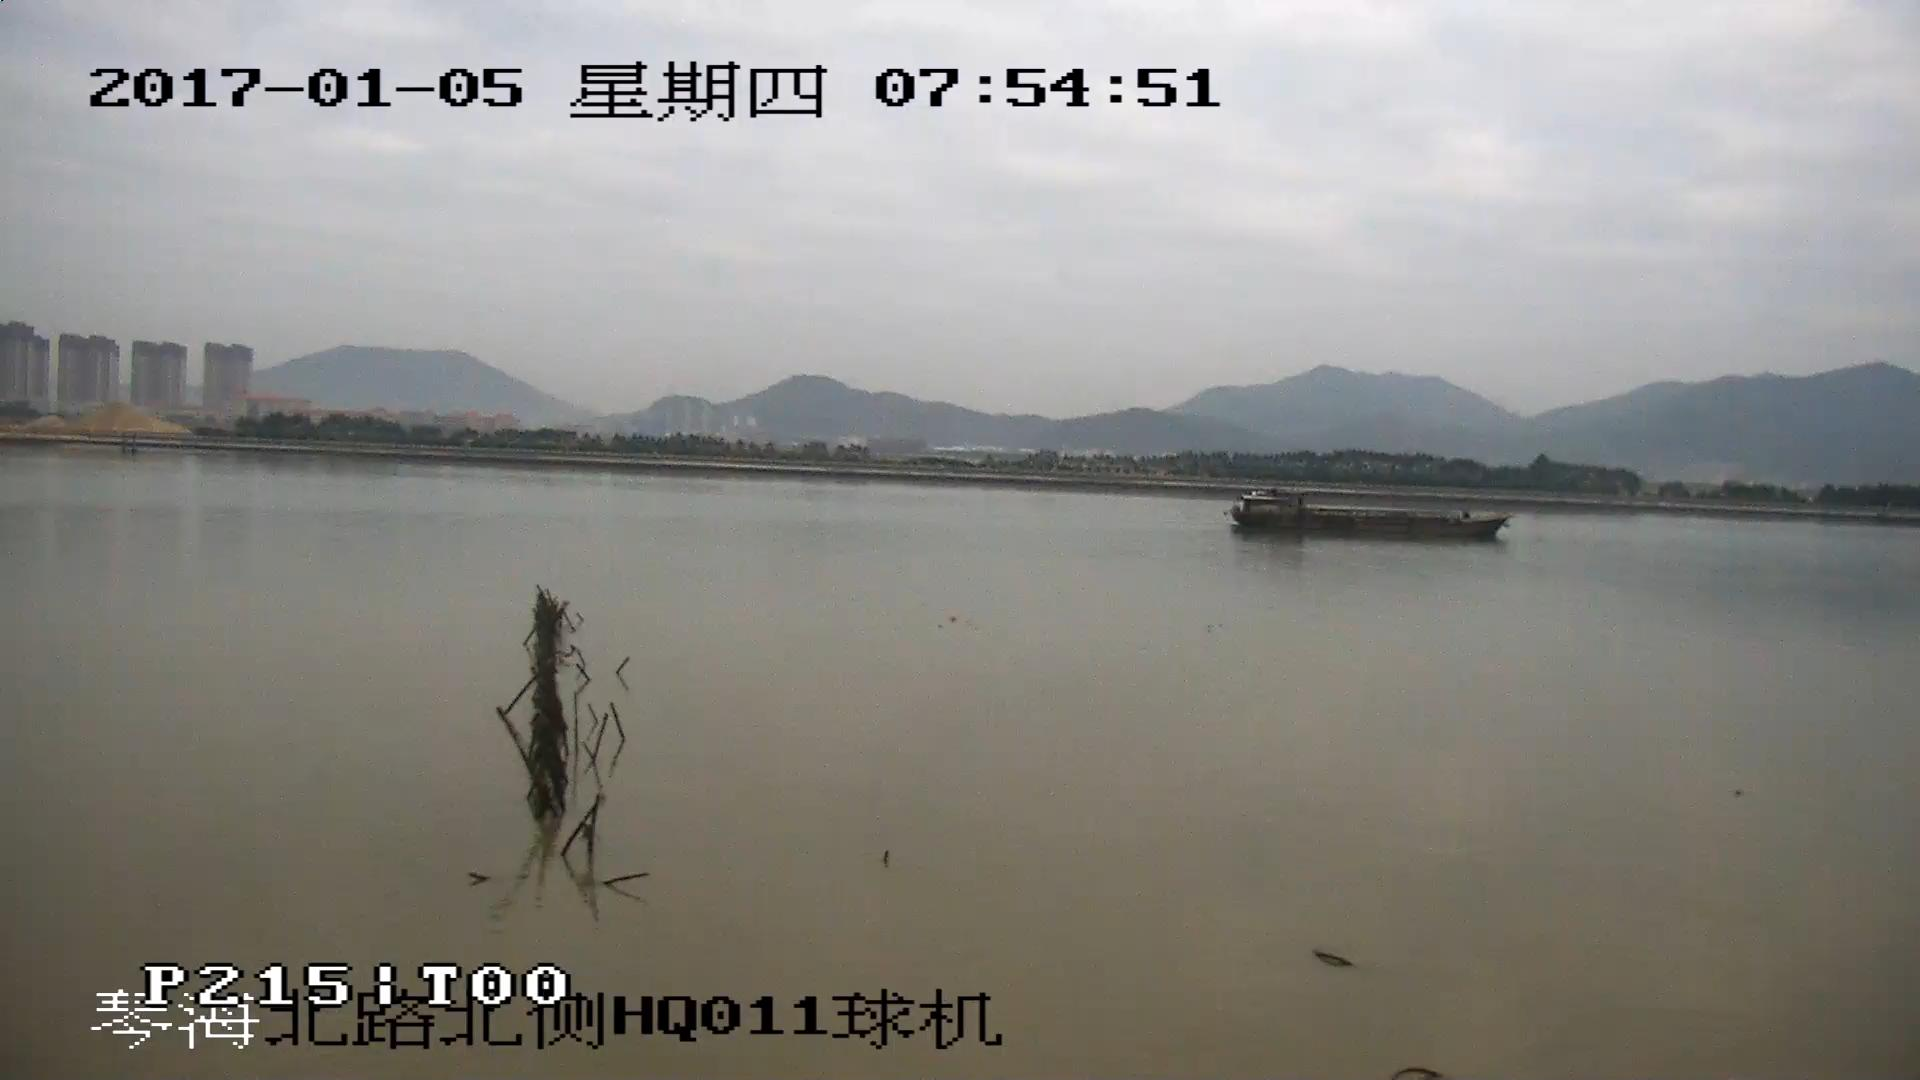bulk cargo carrier: (1223, 488, 1515, 538)
